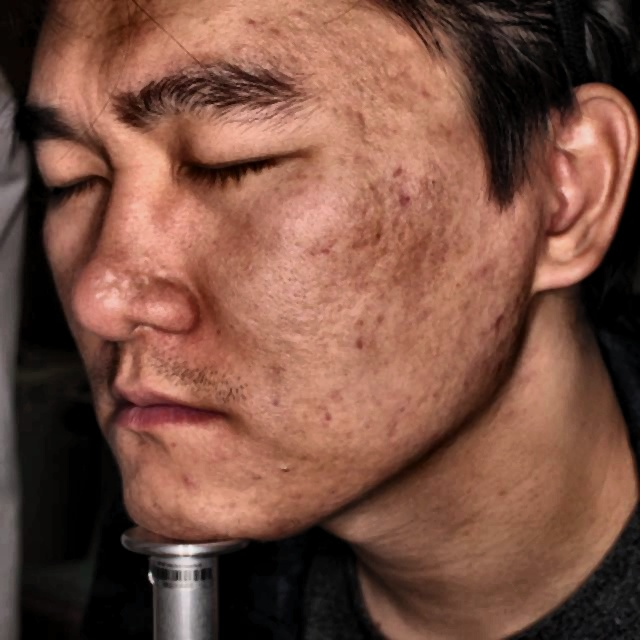comedone: (482, 309, 509, 341), (471, 252, 496, 282)
